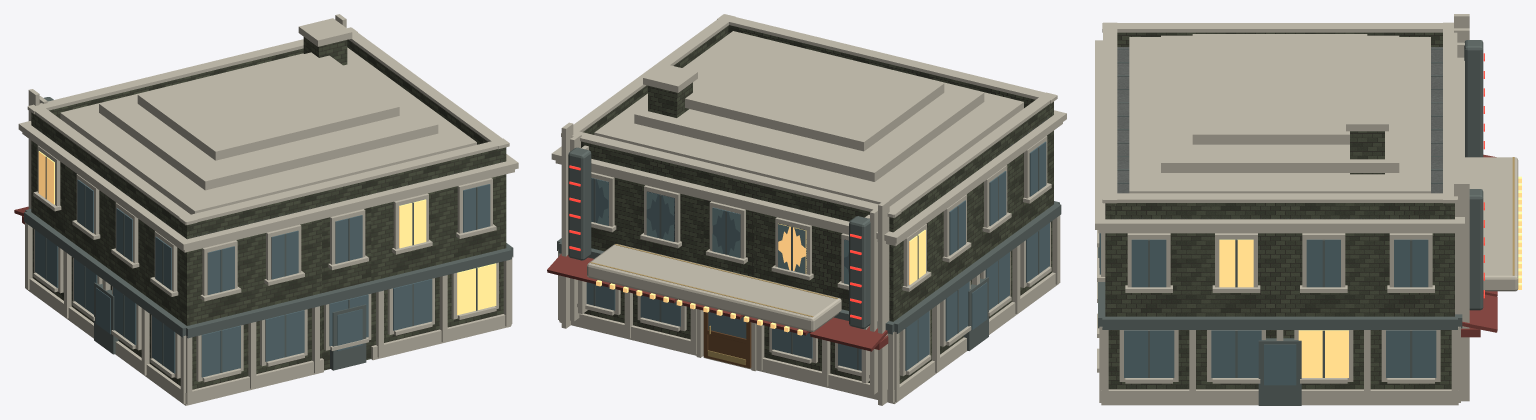
Rendered from casino.glb.
The picture shows the model from 3 angles, left to right: view 1: azimuth 30°, elevation 25°; view 2: azimuth 150°, elevation 25°; view 3: azimuth 270°, elevation 25°; orthographic projection. The views are drawn at different scales.
Visible parts, largest first — view 1: foundation wing, masonry wing, window pane, roof tar seam, window pane.004; view 2: foundation wing, masonry wing, roof tar seam, window pane, canvas awning, window pane.014, window glass remnant, door bottom rail, window pane.004, marquee brass edge, window pane.015, door glazing (+1 smaller); view 3: foundation wing, masonry wing, window pane, roof tar seam, window pane.004, roof, canvas awning.
Boxes of the visible parts, x1=… form: foundation wing: x1=18, y1=14, x2=518, y2=405; masonry wing: x1=31, y1=37, x2=506, y2=389; window pane: x1=35, y1=179, x2=490, y2=377; roof tar seam: x1=24, y1=97, x2=513, y2=372; window pane.004: x1=38, y1=151, x2=496, y2=315; foundation wing: x1=551, y1=14, x2=1066, y2=405; masonry wing: x1=581, y1=25, x2=1053, y2=383; roof tar seam: x1=557, y1=147, x2=1061, y2=370; window pane: x1=586, y1=141, x2=1049, y2=370; canvas awning: x1=547, y1=254, x2=888, y2=351; window pane.014: x1=591, y1=177, x2=848, y2=273; window glass remnant: x1=591, y1=178, x2=848, y2=284; door bottom rail: x1=703, y1=312, x2=751, y2=368; window pane.004: x1=596, y1=230, x2=925, y2=335; marquee brass edge: x1=590, y1=244, x2=837, y2=317; window pane.015: x1=778, y1=223, x2=806, y2=273; door glazing: x1=708, y1=312, x2=746, y2=338; foundation wing: x1=1095, y1=14, x2=1518, y2=405; masonry wing: x1=1105, y1=32, x2=1454, y2=389; window pane: x1=1099, y1=233, x2=1436, y2=385; roof tar seam: x1=1098, y1=40, x2=1483, y2=405; window pane.004: x1=1219, y1=176, x2=1521, y2=377; roof: x1=1107, y1=47, x2=1453, y2=219; canvas awning: x1=1461, y1=154, x2=1497, y2=337.
Size of the model in its own units: 13.65 by 8.9 by 13.44.
13 materials, 2 textured.
